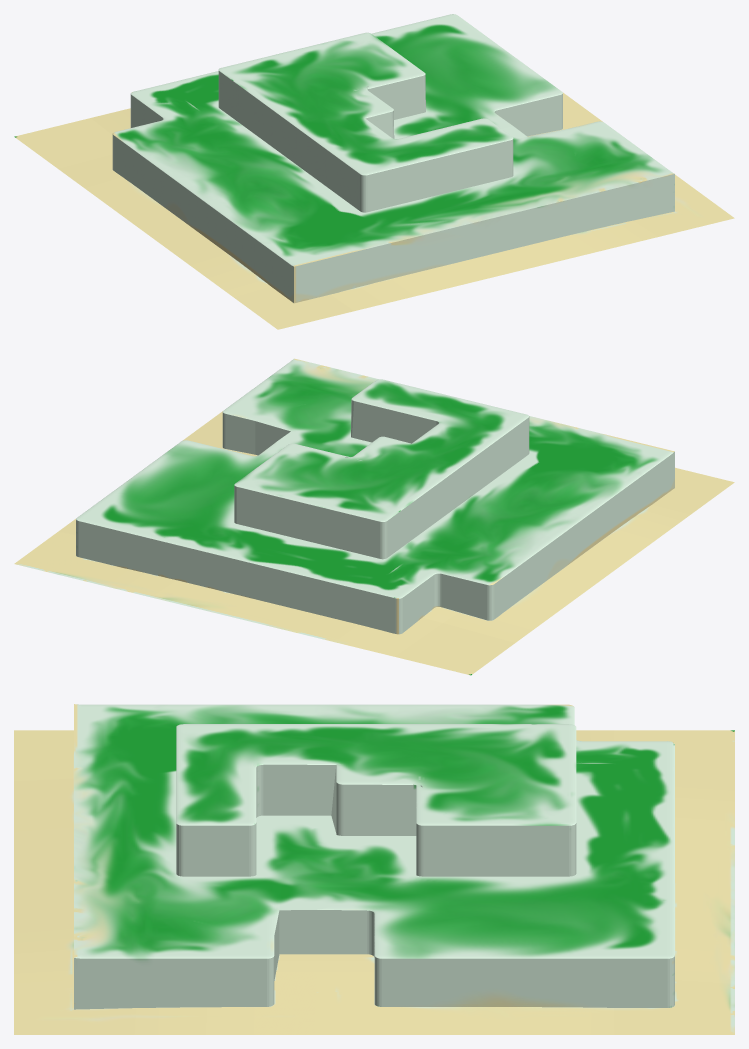
File: Isle1.fbx
The picture shows the model from 3 angles, top to bottom: view 1: azimuth 30°, elevation 25°; view 2: azimuth 150°, elevation 25°; view 3: azimuth 270°, elevation 25°; orthographic projection. The views are drawn at different scales.
Visible parts, largest first — view 1: Isle1; view 2: Isle1; view 3: Isle1.
Boxes of the visible parts, x1,y1,x2,y2 form: Isle1: [14, 14, 734, 329]; Isle1: [14, 358, 734, 675]; Isle1: [14, 704, 734, 1034].
Bounding box in the file's own units: 1200 × 195 × 1200.
